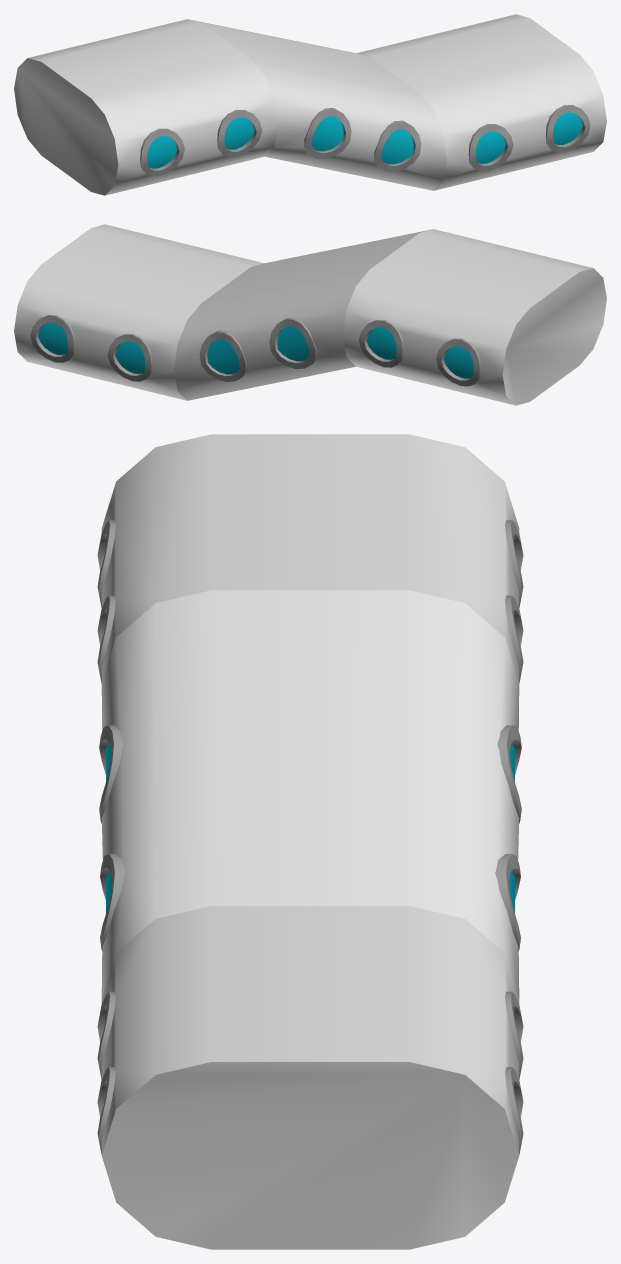
Rendered from gangway_002.fbx.
3 views of the same model, one above another, from view 1: azimuth 30°, elevation 25°; view 2: azimuth 150°, elevation 25°; view 3: azimuth 270°, elevation 25° (orthographic). The views are drawn at different scales.
Parts seen in each view (by area): view 1: gangway_002; view 2: gangway_002; view 3: gangway_002.
Part boxes in pixels (x1,y1,x2,y2): gangway_002: (14, 14, 606, 195); gangway_002: (14, 224, 606, 405); gangway_002: (97, 434, 523, 1249).
Size of the model in its own units: 1405 by 530 by 465.
